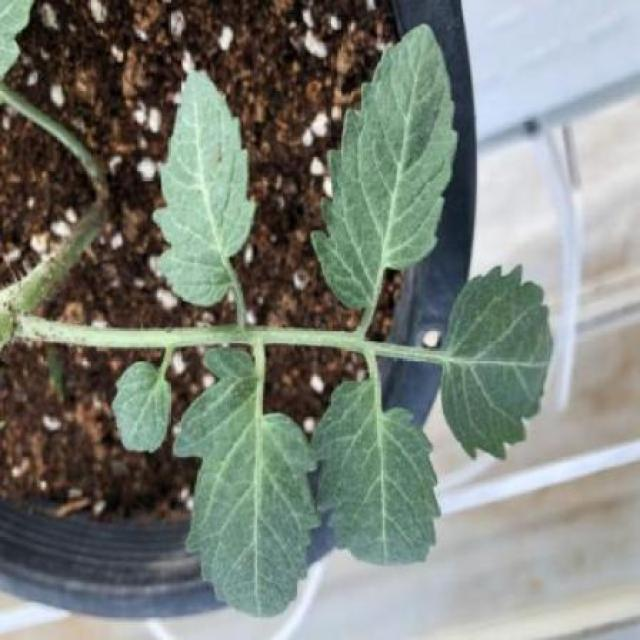Healthy: (310, 25, 457, 309), (173, 348, 318, 618), (153, 70, 256, 306), (310, 382, 440, 567), (441, 265, 553, 461), (113, 361, 171, 453)
